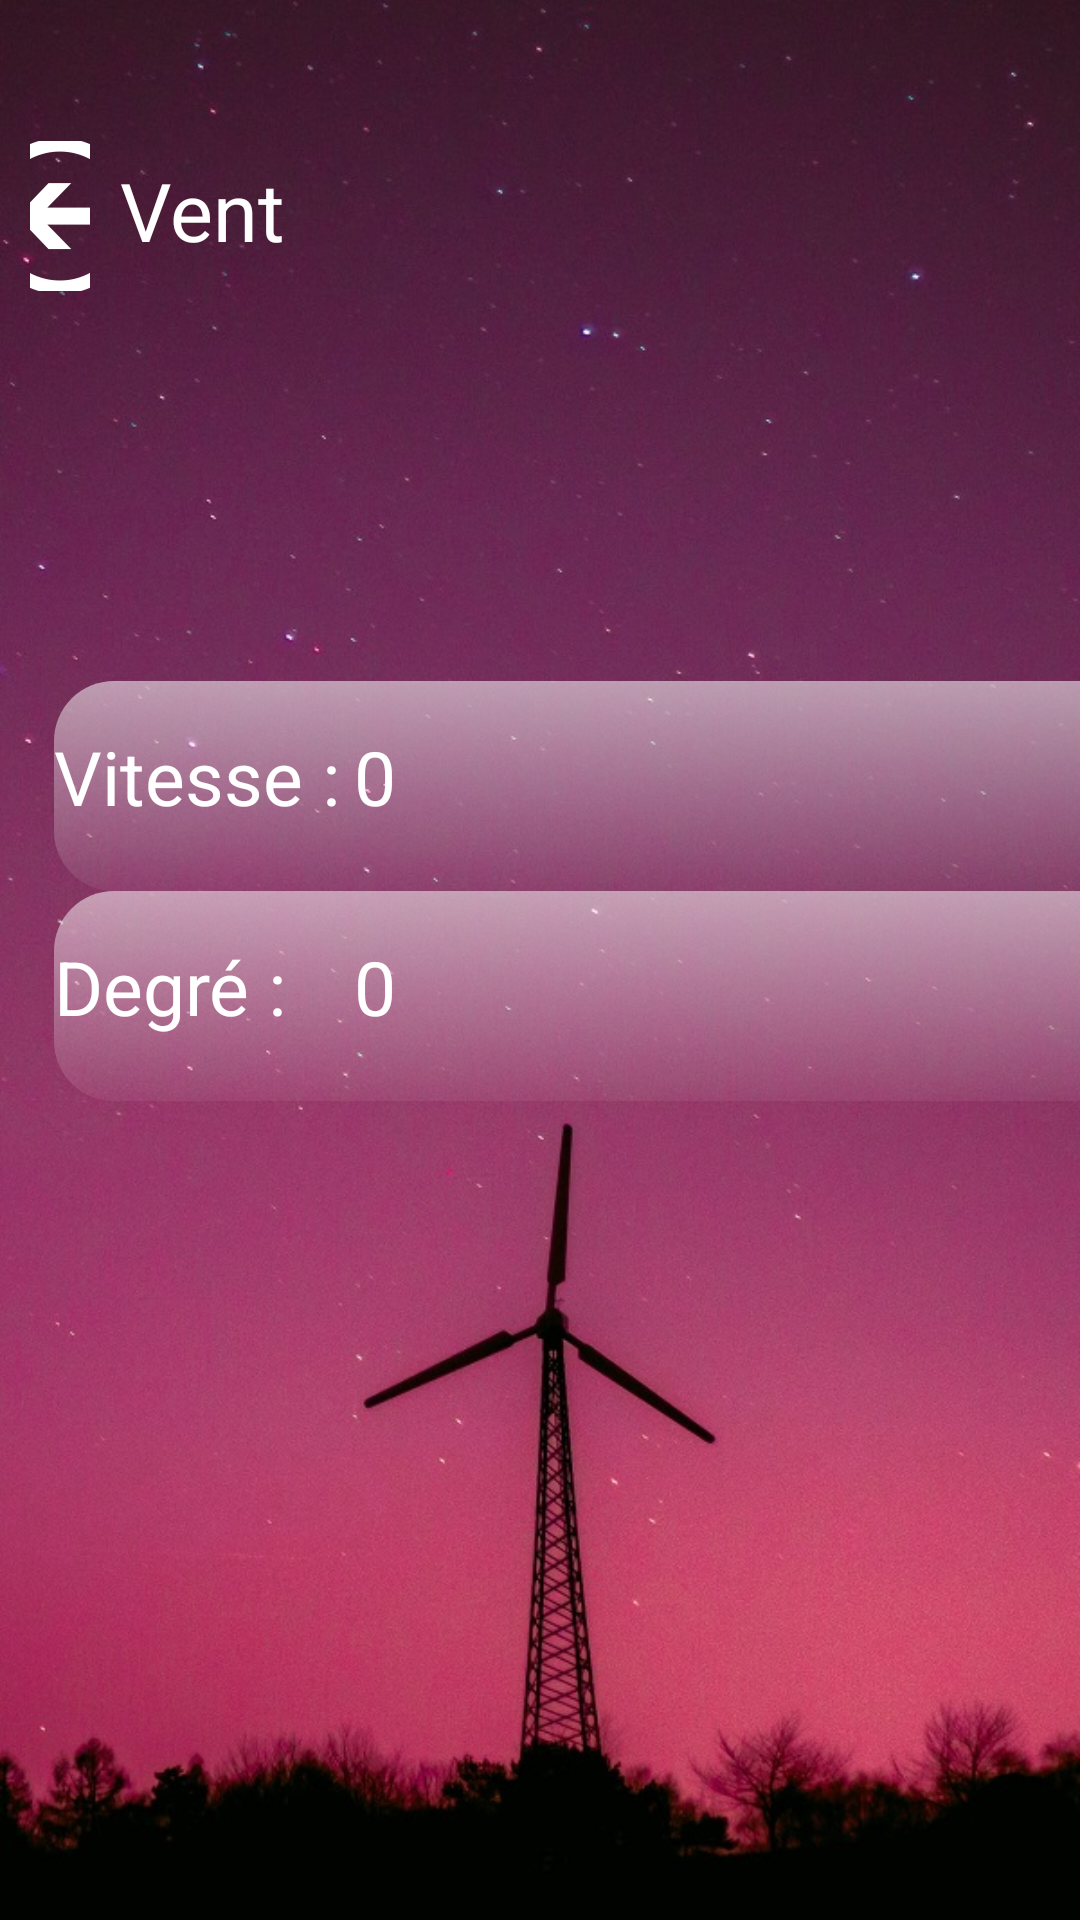

Point at icon controls on the screen. Image size 1080x1920, points as point (x, y).
backpng: point (60, 216)
